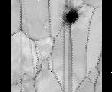good_void: (59, 4, 80, 28)
